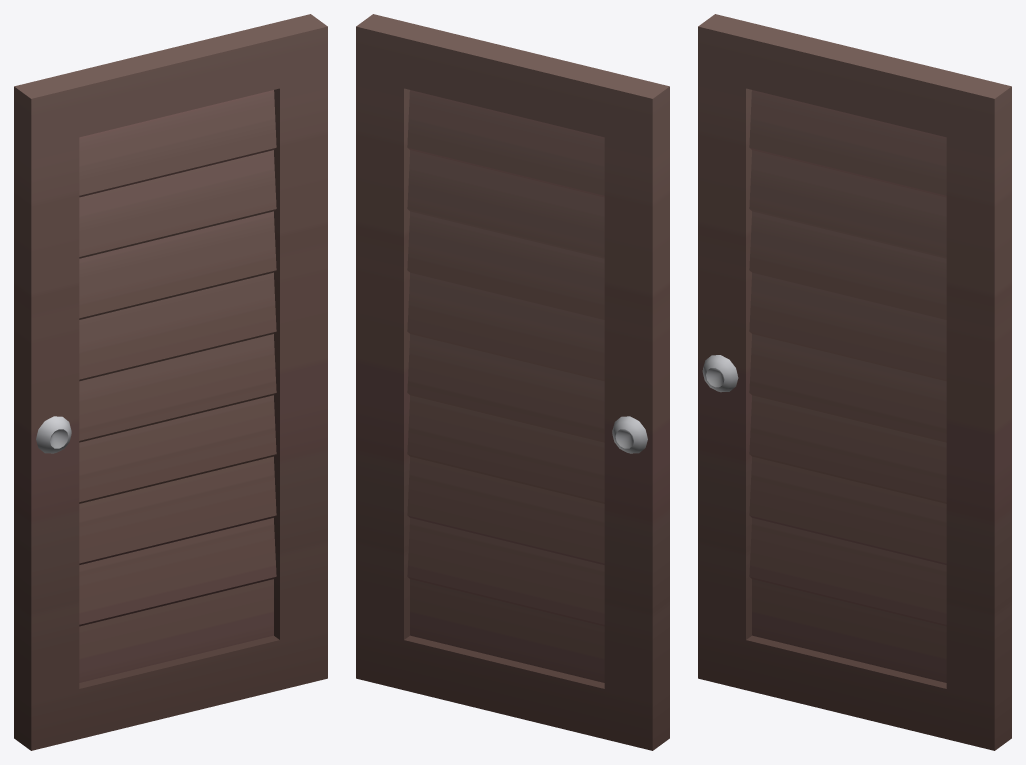
File: Door_Brown_07.glb
3 views of the same model, side by side, from view 1: azimuth 30°, elevation 25°; view 2: azimuth 150°, elevation 25°; view 3: azimuth 330°, elevation 25° (orthographic).
Visible parts, largest first — view 1: Door_Brown_07; view 2: Door_Brown_07; view 3: Door_Brown_07.
Part boxes in pixels (<box>): Door_Brown_07: <box>14,14,327,750</box>; Door_Brown_07: <box>356,14,669,750</box>; Door_Brown_07: <box>698,14,1011,750</box>.
Bounding box in the file's own units: 1 × 2.1 × 0.1634.
1 material, 1 textured.
